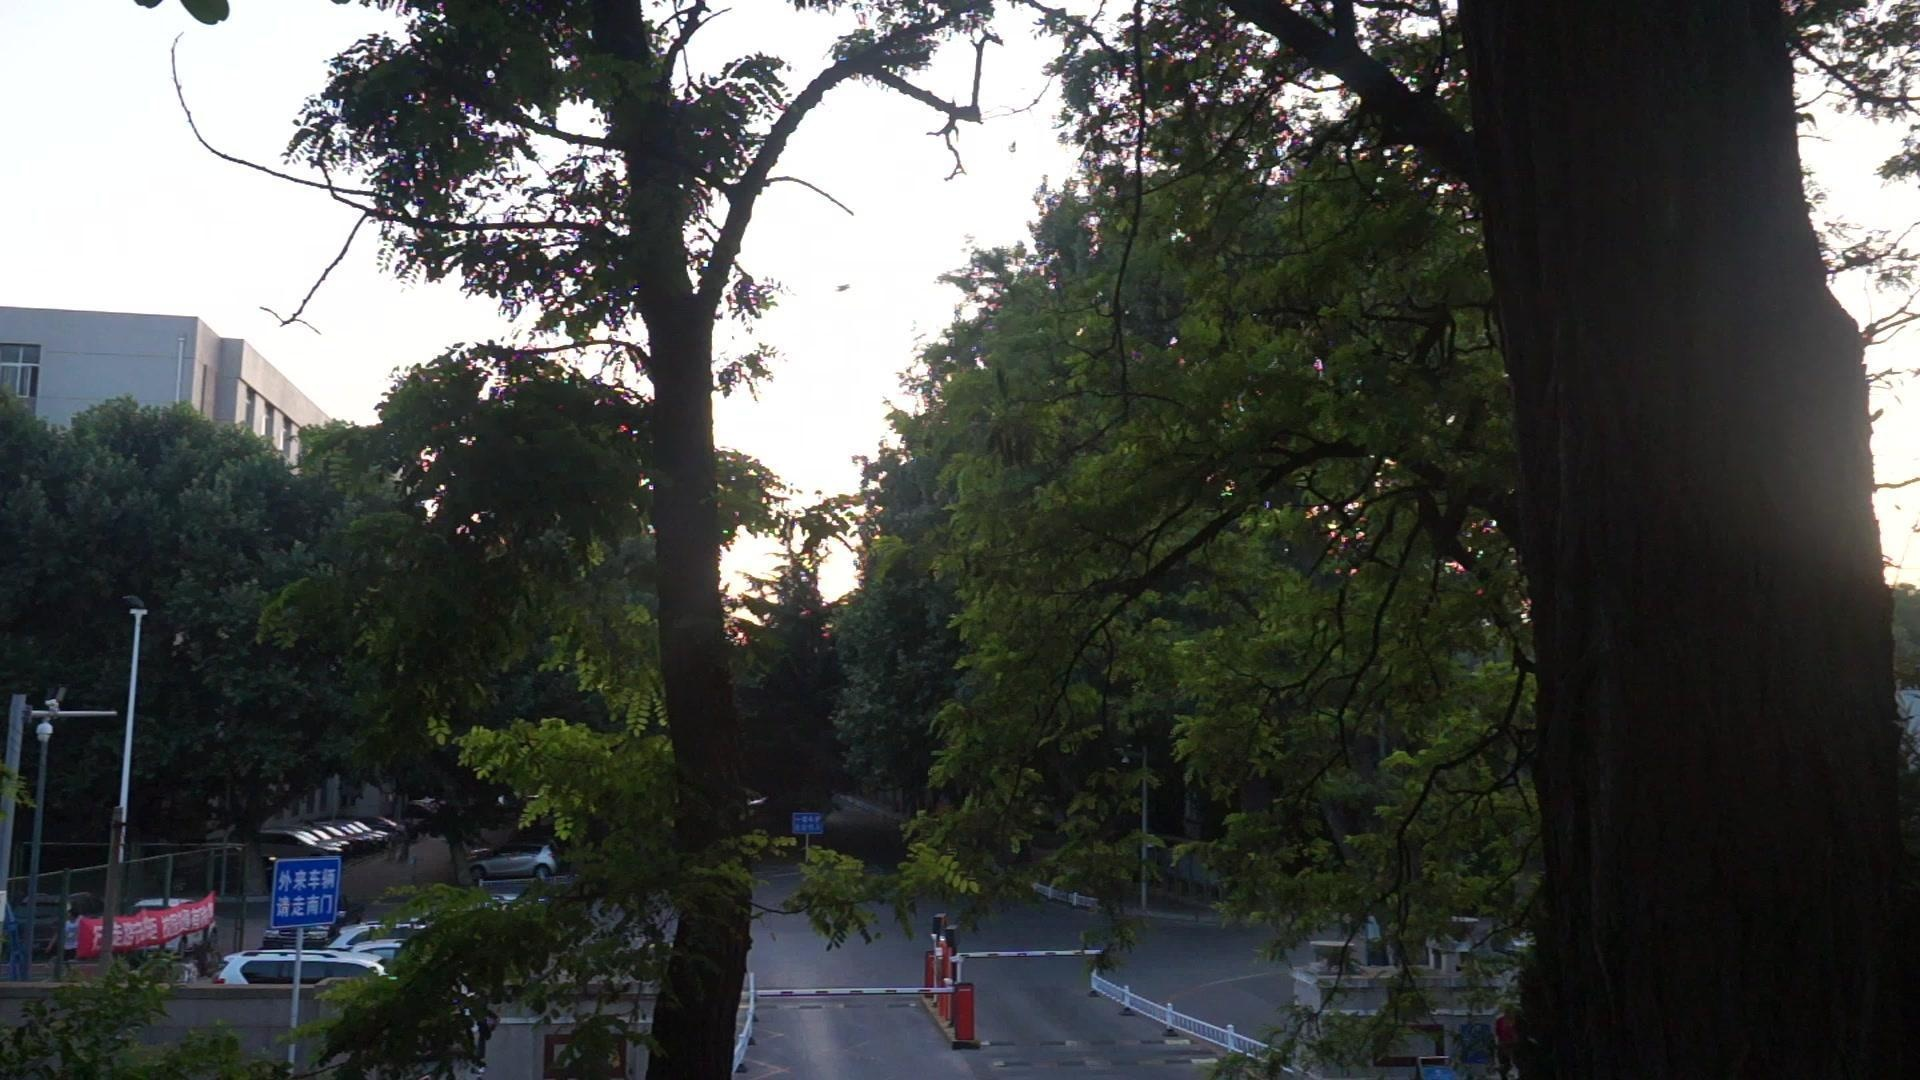UAV: (835, 285, 851, 293)
